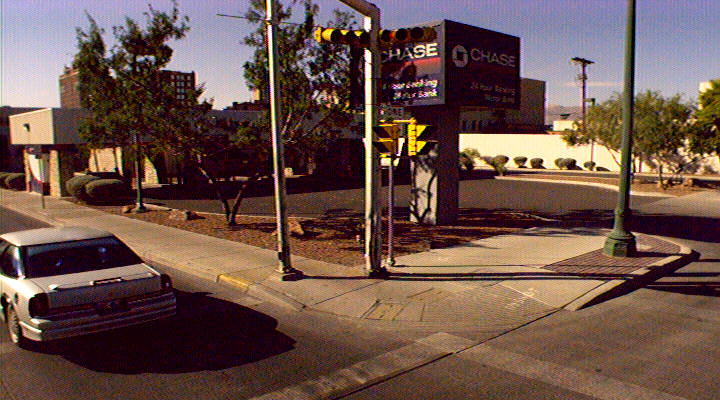Ramp: (271, 264, 595, 331)
